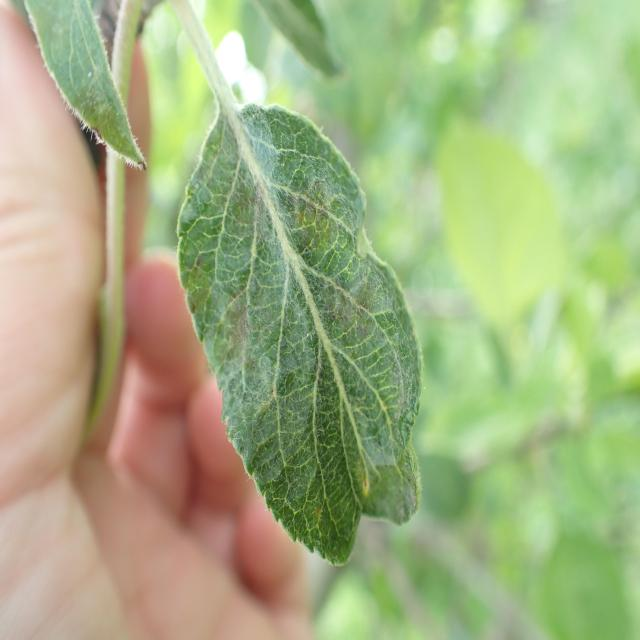scab: (178, 84, 420, 547)
